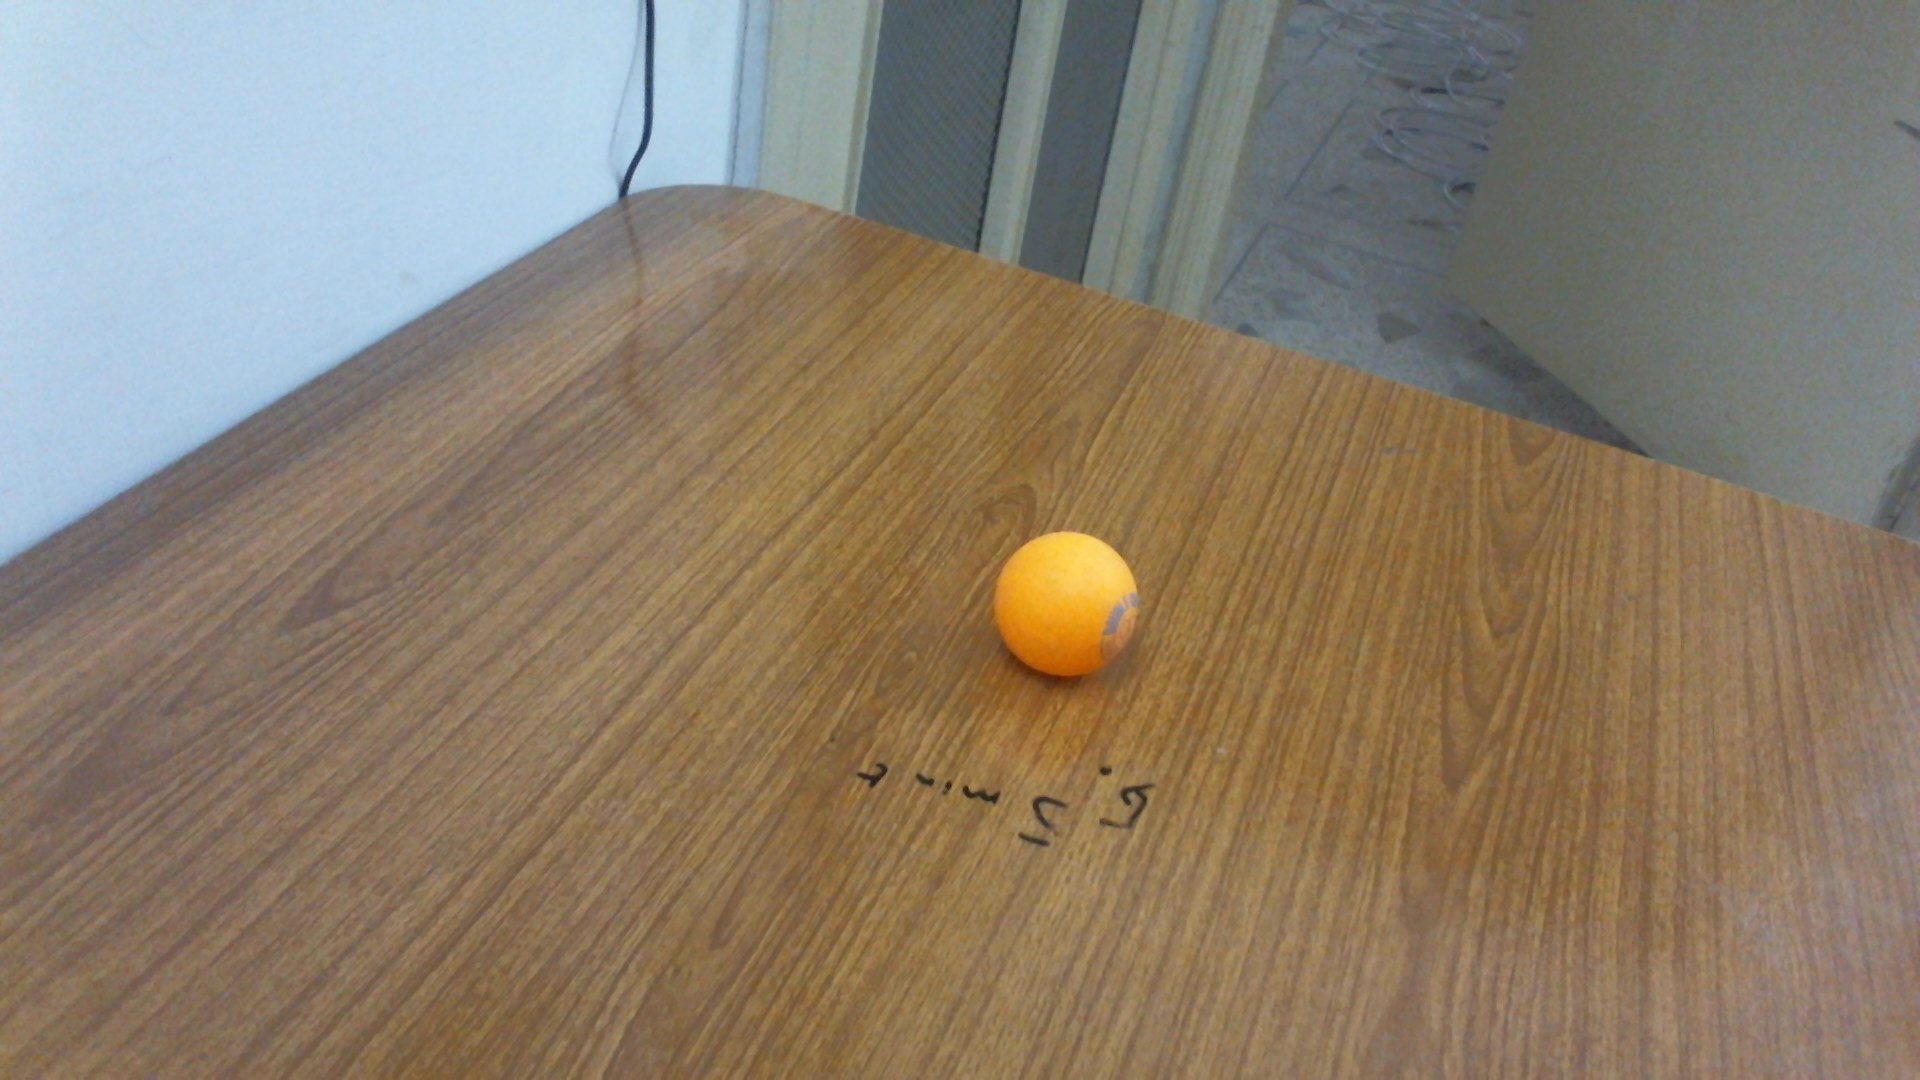ball: (992, 527, 1141, 680)
